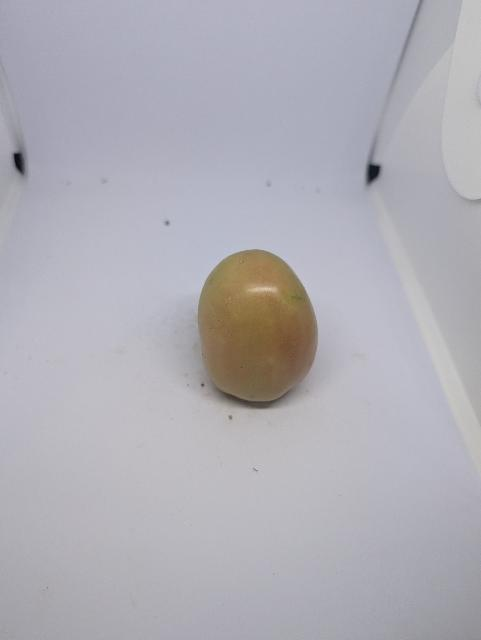turning: (194, 246, 323, 413)
